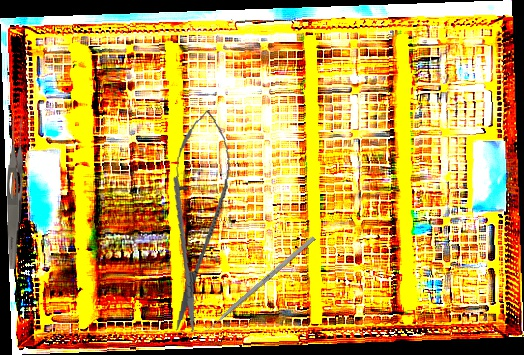Dressing Forceps: (5, 117, 26, 270)
Micro Scissor: (156, 106, 237, 335)
Pusher: (195, 235, 316, 342)
